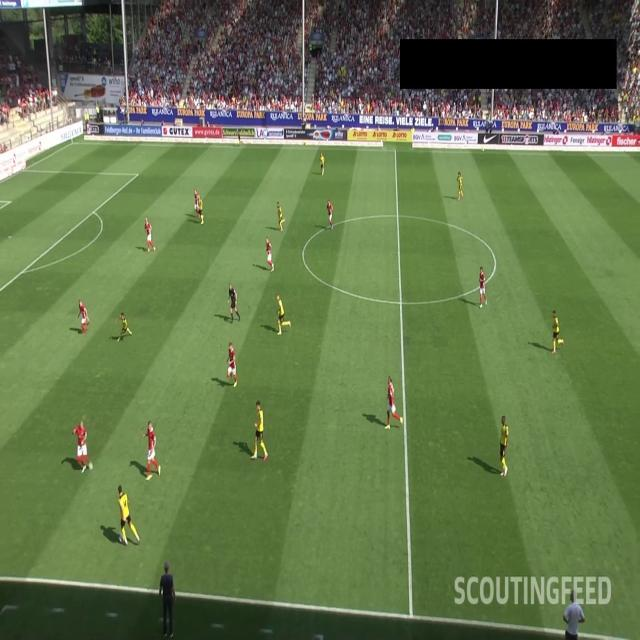ball: (117, 532, 125, 548)
player: (116, 481, 142, 549), (251, 394, 271, 464), (383, 372, 406, 432), (141, 416, 161, 481), (73, 421, 94, 475), (496, 410, 510, 477), (273, 289, 291, 337), (549, 308, 565, 355), (226, 340, 239, 390), (476, 262, 489, 312), (76, 296, 91, 336), (143, 213, 157, 255), (116, 311, 134, 343), (324, 197, 336, 233), (264, 233, 274, 274), (276, 196, 286, 231), (455, 168, 465, 202), (196, 193, 204, 226), (192, 185, 199, 221), (319, 150, 325, 179)
referee: (228, 280, 242, 324), (235, 128, 245, 151)
